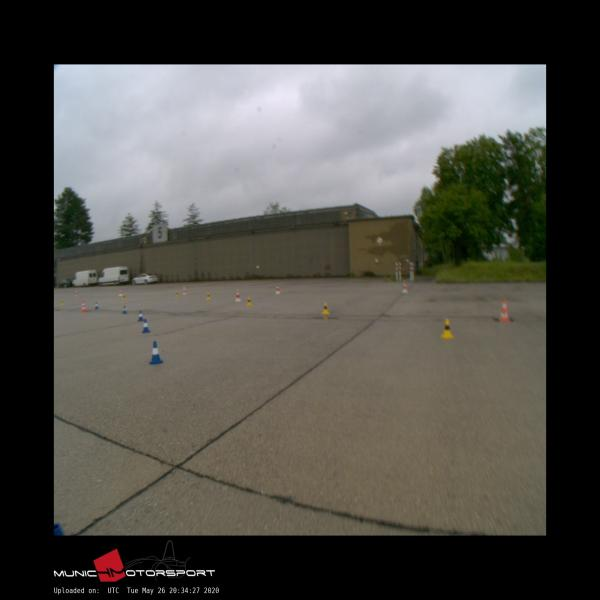blue_cone: (148, 342, 162, 364), (142, 319, 150, 332), (138, 311, 144, 320), (122, 305, 128, 314), (94, 302, 98, 309)
large_orange_cone: (499, 299, 509, 321), (81, 300, 87, 312)
yellow_cone: (441, 319, 453, 338), (322, 303, 328, 314), (247, 297, 252, 305), (207, 292, 211, 300)
